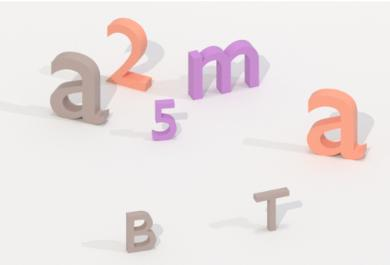2: (103, 15, 156, 94)
5: (148, 96, 182, 144)
B: (121, 207, 160, 256)
T: (250, 183, 293, 234)
a: (45, 46, 111, 128), (304, 85, 369, 164)
m: (186, 35, 261, 103)
